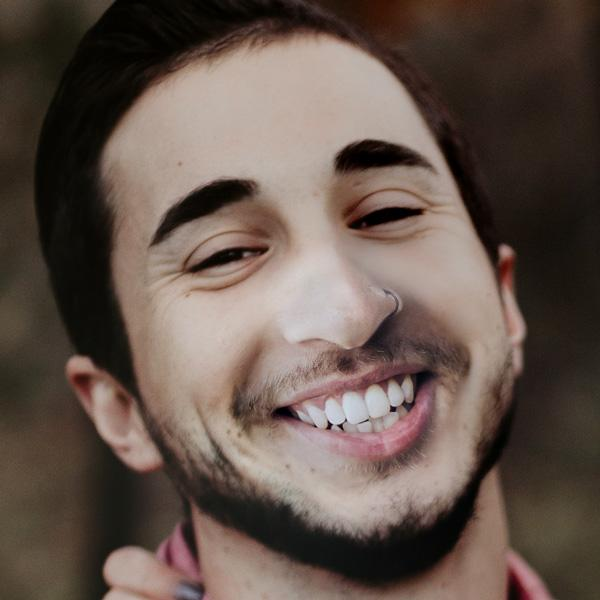Eyes: (175, 214, 284, 291), (339, 175, 436, 248)
